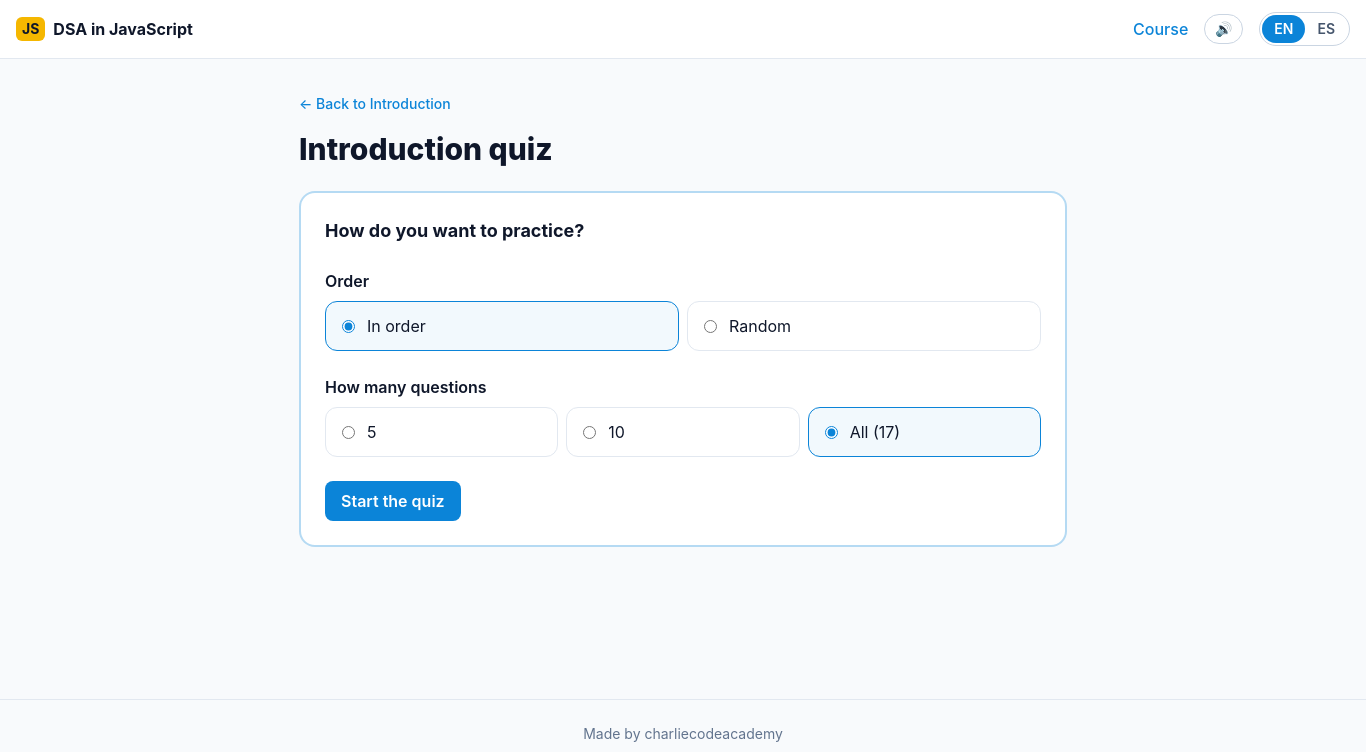
Test: quiz page › points to the right answer after a wrong one
Click the button "Start the quiz" at (393, 501), box [325,481,461,521]
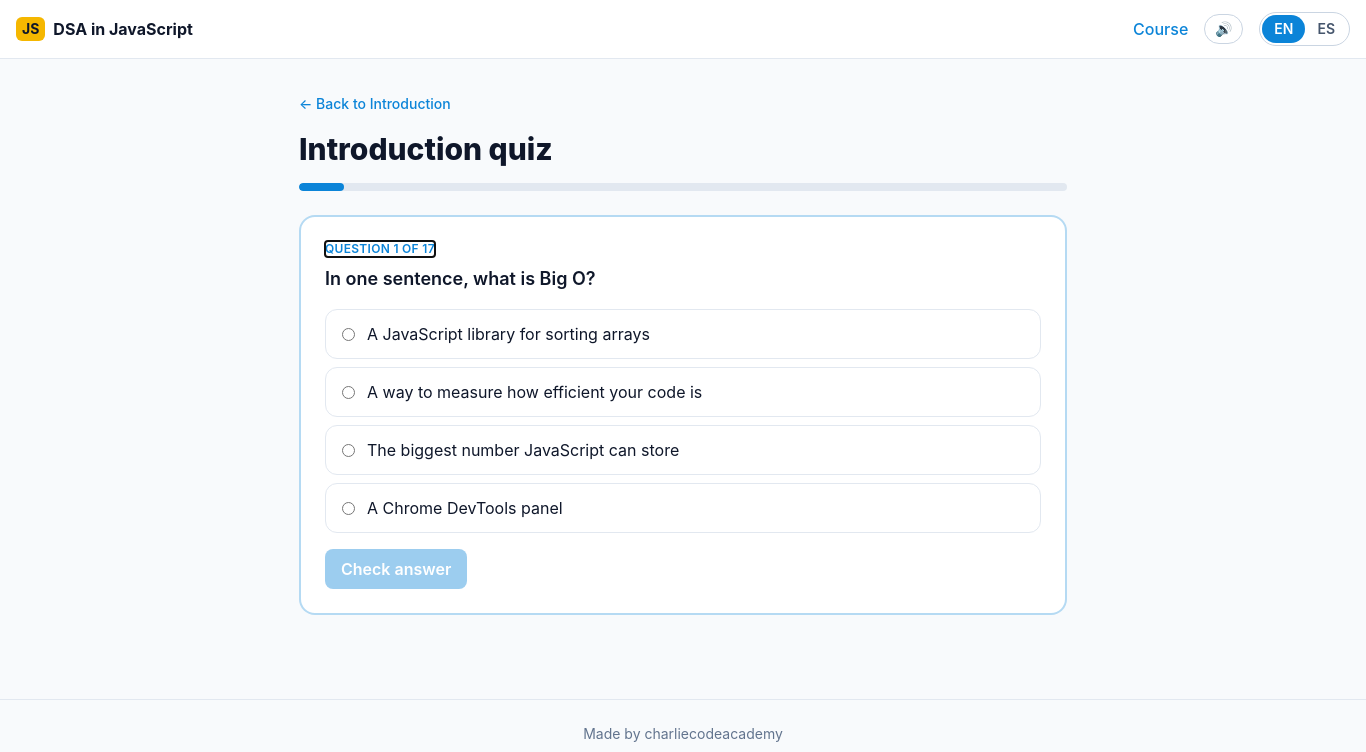
Click the radio button labelled "The biggest number JavaScript can store" at (348, 450), box [342,444,355,456]
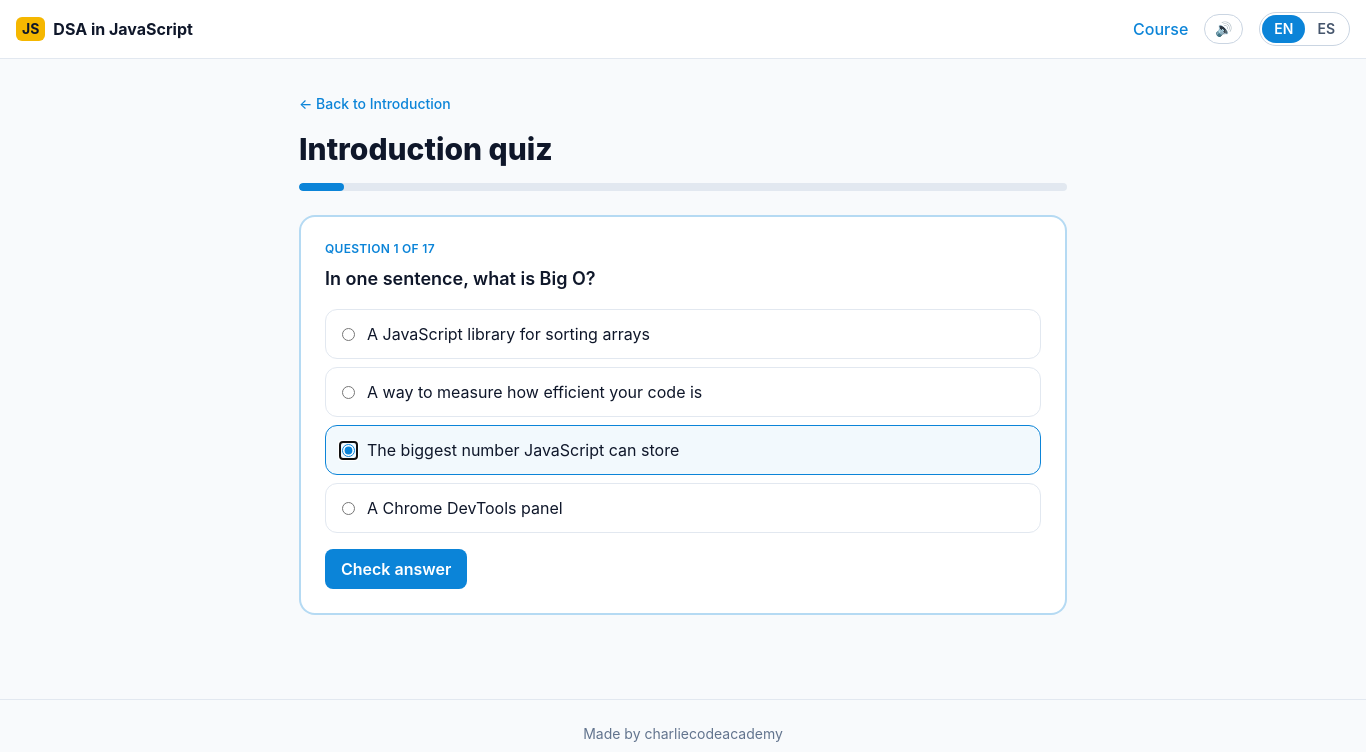
Click the button "Check answer" at (396, 569), box [325,549,467,589]
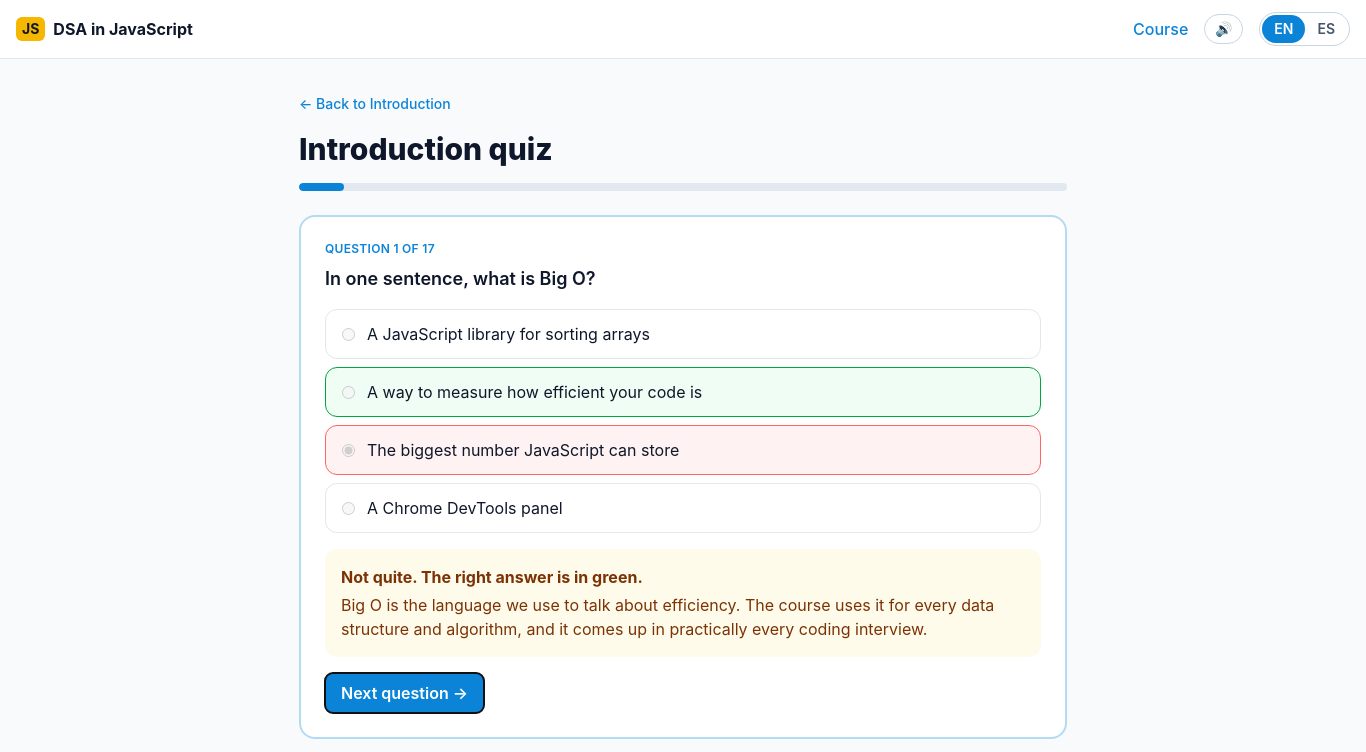
Expected: the text "Not quite. The right answer is in green." is shown, [341,567,643,587]
